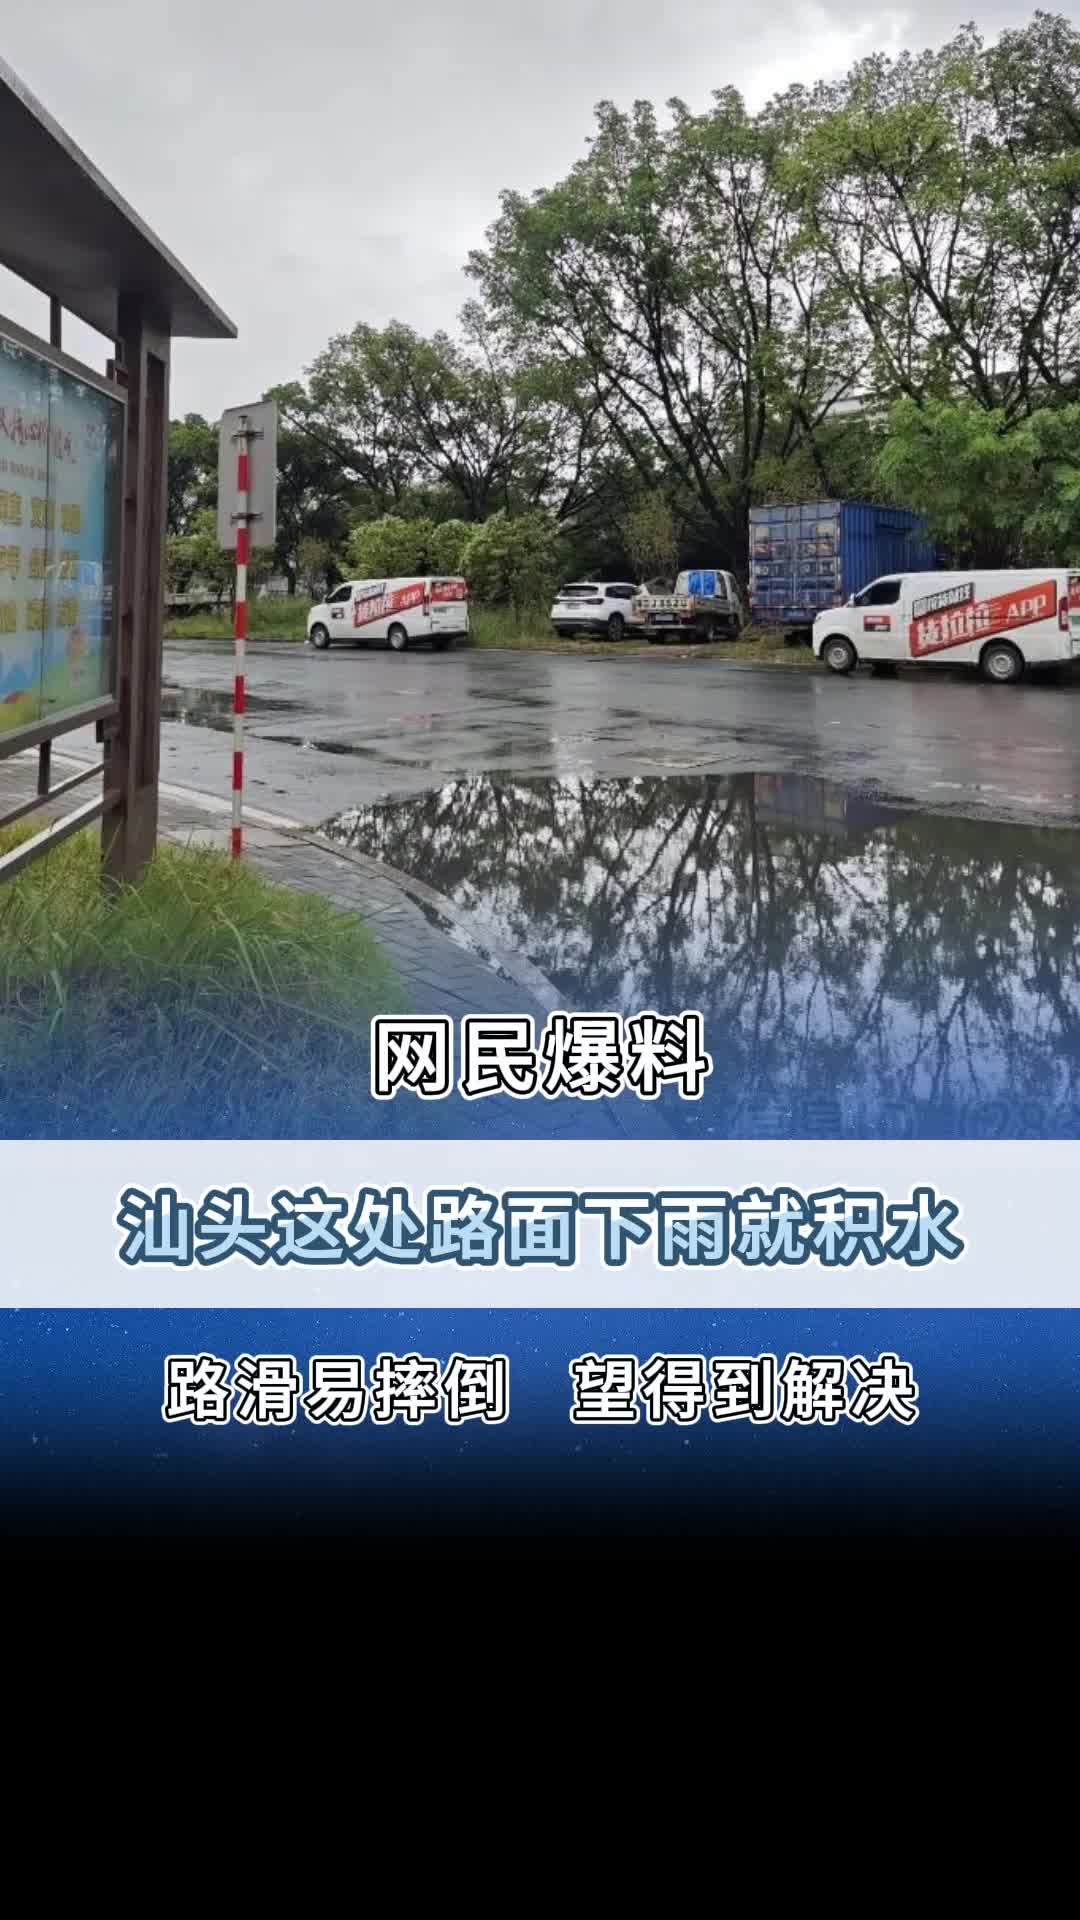puddle: (353, 738, 1076, 1014)
